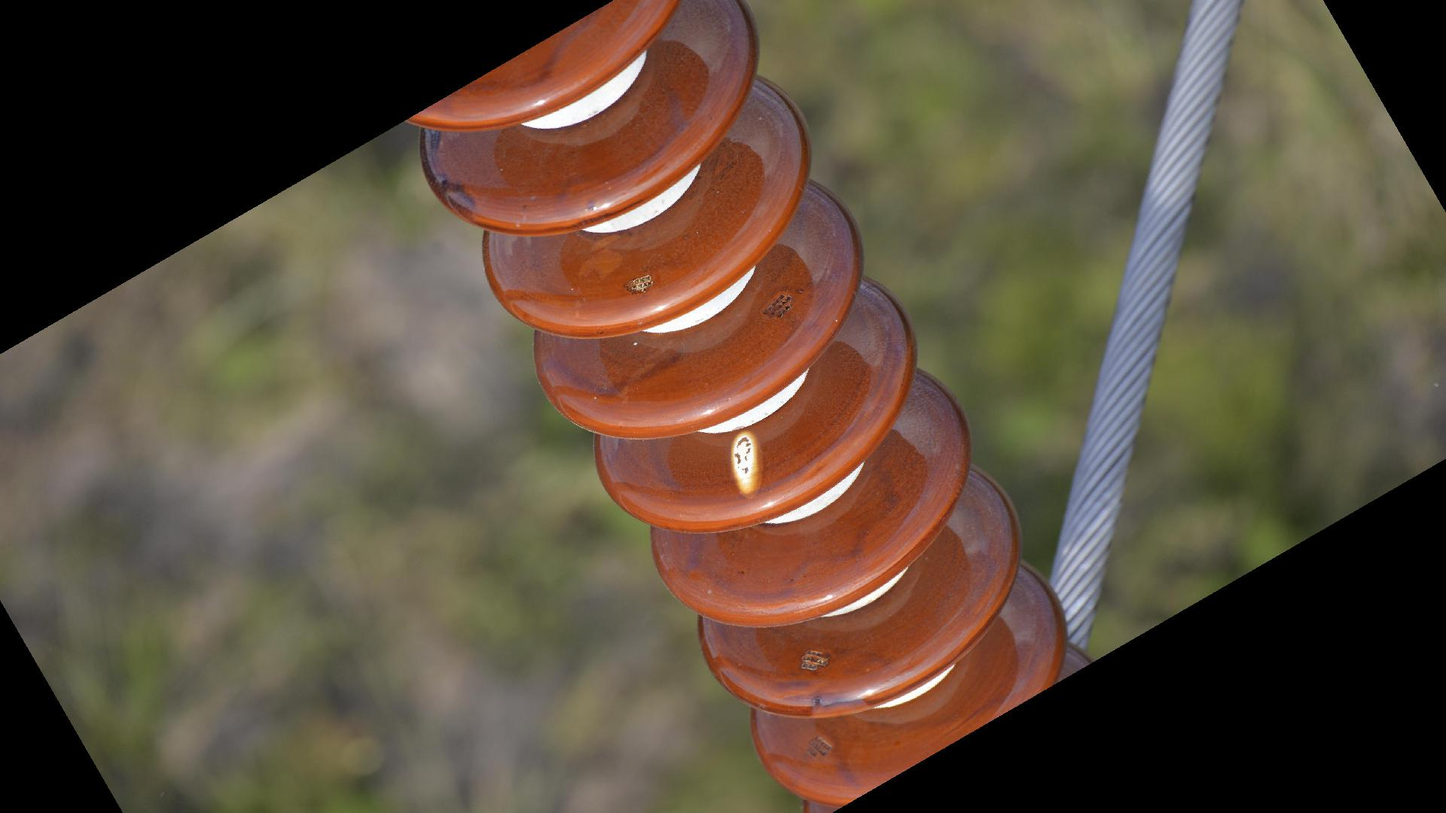insulator: (390, 1, 1094, 813)
insulator_flashover: (724, 425, 767, 496)
